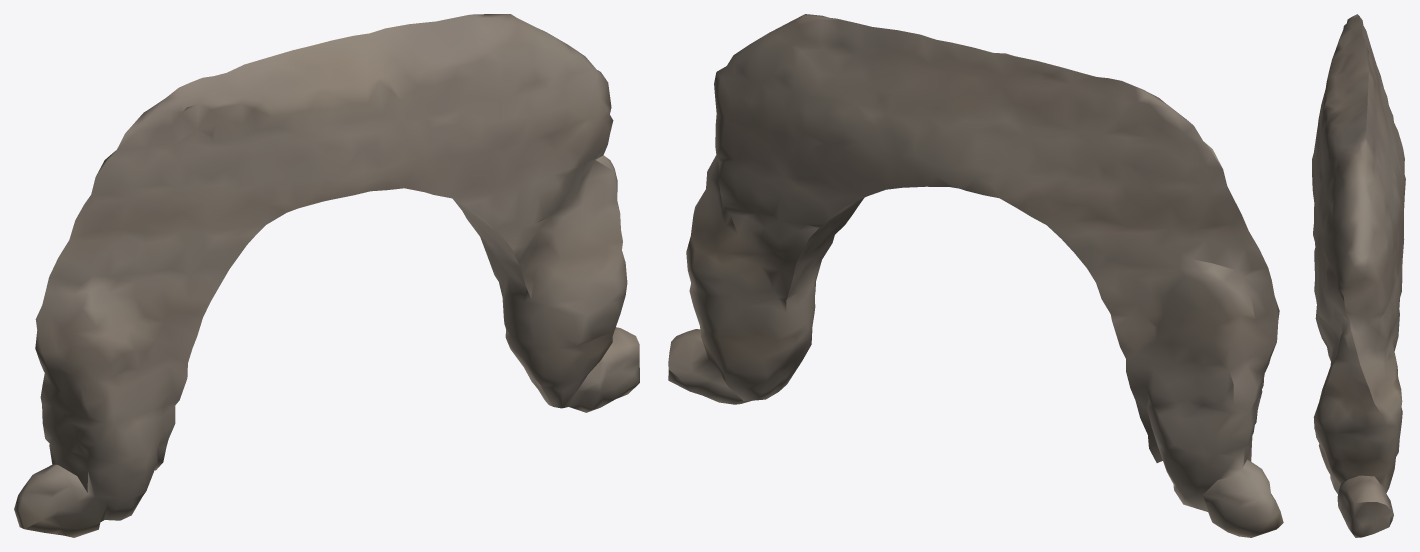
The model's file is rock_arch_cave.ef23b8b8.glb.
The picture shows the model from 3 angles, left to right: view 1: azimuth 30°, elevation 25°; view 2: azimuth 150°, elevation 25°; view 3: azimuth 270°, elevation 25°; orthographic projection. The views are drawn at different scales.
Parts seen in each view (by area): view 1: rock_arch_cave; view 2: rock_arch_cave; view 3: rock_arch_cave.
Part boxes in pixels (box(x1,y1,x2,y2)): rock_arch_cave: box(14, 14, 639, 537); rock_arch_cave: box(668, 14, 1283, 537); rock_arch_cave: box(1312, 14, 1405, 537).
Bounding box in the file's own units: 4.5 × 3.01 × 0.72.
